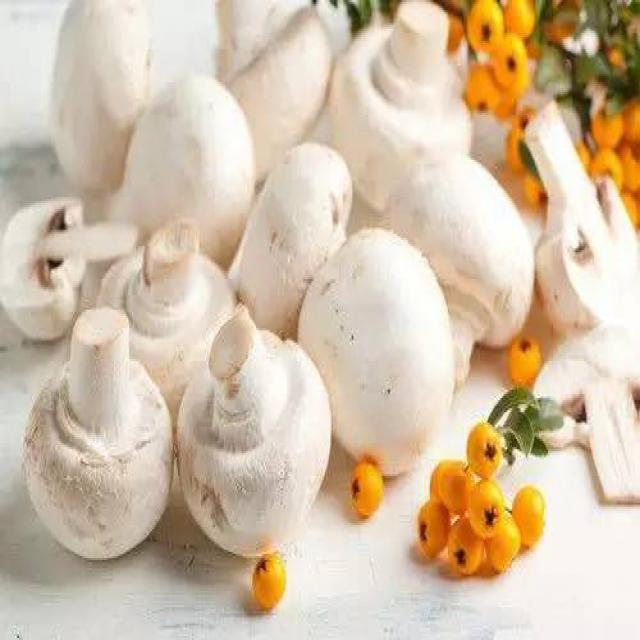Agaricus bisporus: (178, 312, 332, 558), (25, 308, 176, 557), (302, 233, 450, 478), (330, 0, 479, 192), (92, 220, 243, 385), (125, 78, 246, 262), (233, 138, 351, 325), (3, 193, 140, 336)
